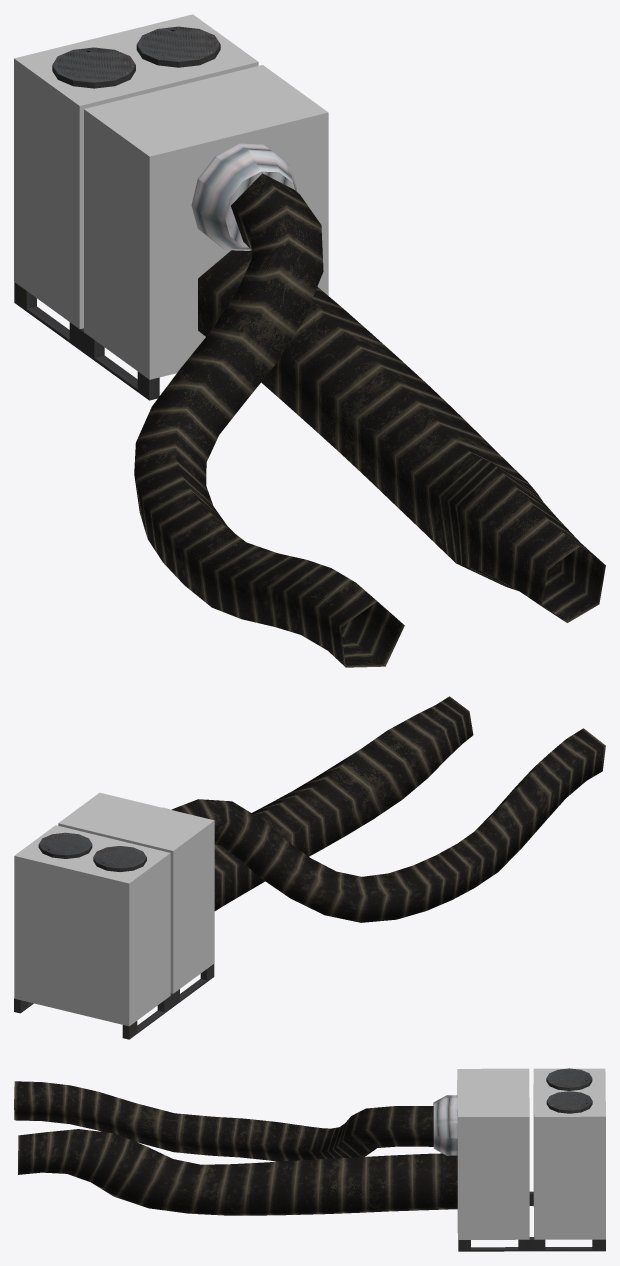
Rendered from PowerStation_Invertor.fbx.
3 views of the same model, one above another, from view 1: azimuth 30°, elevation 25°; view 2: azimuth 150°, elevation 25°; view 3: azimuth 270°, elevation 25° (orthographic). The views are drawn at different scales.
Visible parts, largest first — view 1: PowerStation_Invertor; view 2: PowerStation_Invertor; view 3: PowerStation_Invertor.
Boxes of the visible parts, x1,y1,x2,y2 form: PowerStation_Invertor: [14, 14, 605, 667]; PowerStation_Invertor: [14, 696, 605, 1039]; PowerStation_Invertor: [14, 1068, 605, 1251].
Size of the model in its own units: 2.36 by 1.44 by 5.63.
